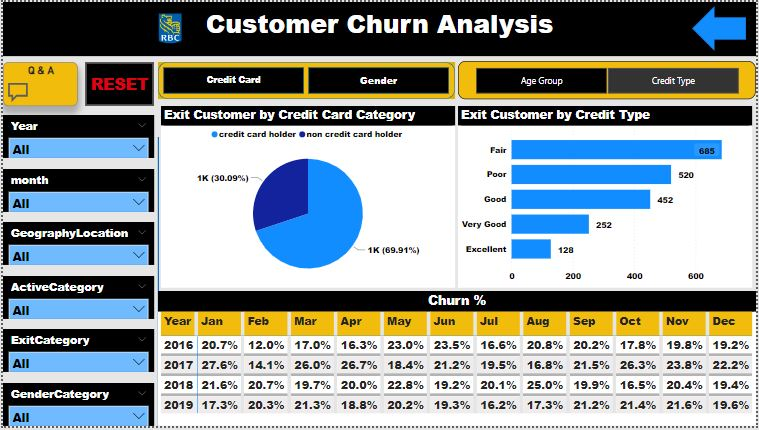

This screenshot's page, from the dashboard's own definition file:
{"tool":"powerbi","page":{"name":"Detailed Analysis","canvas":[1280,720],"ordinal":1},"visuals":[{"type":"textbox","box":[0,0,1280,91.8],"z":0},{"type":"image","box":[226.1,6.8,115.6,76.5],"z":1000},{"type":"shape","box":[256.7,230.2,14.9,490.1],"z":2000},{"type":"slicer","fields":{"Values":["Date_Table.Year"]},"box":[0,192.1,256.7,73.1],"z":3000},{"type":"slicer","fields":{"Values":["Date_Table.month"]},"box":[0,283.2,256.7,73.1],"z":4000},{"type":"slicer","fields":{"Values":["Geography.GeographyLocation"]},"box":[0,374.4,256.7,72.9],"z":5000},{"type":"slicer","fields":{"Values":["ActiveCustomer.ActiveCategory"]},"box":[0,465.3,256.7,72.9],"z":6000},{"type":"slicer","fields":{"Values":["ExitCustomer.ExitCategory"]},"box":[0,556.2,256.7,72.9],"z":7000},{"type":"slicer","fields":{"Values":["Gender.GenderCategory"]},"box":[0,647.1,256.7,72.9],"z":8000},{"type":"clusteredBarChart","fields":{"Category":["Bank_Churn.Credit Type"],"Y":["Calculation.Exit Customer"]},"box":[773.4,176.8,499.8,309.4],"z":10000},{"type":"pieChart","title":"Exit Customer by Credit Card Category","fields":{"Y":["Calculation.Exit Customer"],"Category":["Credit Card.Category"]},"box":[268.6,176.8,499.8,309.4],"z":11000},{"type":"actionButton","title":"Q & A","box":[0,102,127.5,74.8],"z":12000},{"type":"shape","box":[1171.2,6.8,91.8,76.5],"z":13000},{"type":"pivotTable","title":"Churn % ","fields":{"Rows":["Date_Table.Year"],"Values":["Calculation.Churn Rate"],"Columns":["Date_Table.Month_name"]},"box":[263.5,491.3,1016.5,229.5],"z":14000},{"type":"slicer","fields":{"Values":["Exit Customer By 2.Exit Customer By"]},"box":[774.3,100.7,505.7,64.9],"z":15000},{"type":"shape","box":[263.5,102,504.9,62.9],"z":16000},{"type":"shape","box":[272,110.5,240,45.9],"z":17000},{"type":"shape","box":[518.5,110.5,240,45.9],"z":18000},{"type":"actionButton","title":"RESET","box":[139.4,102,117.3,74.8],"z":19000}]}

Visuals, with their boxes in screenshot pixels (x1, y1, x2, y2), scaled from the page's 1280x720 canvas onto the 759x430 screenshot:
textbox: left=0, top=0, right=758, bottom=55
image: left=134, top=4, right=203, bottom=50
shape: left=152, top=137, right=161, bottom=429
slicer - Date_Table.Year: left=0, top=115, right=152, bottom=158
slicer - Date_Table.month: left=0, top=169, right=152, bottom=213
slicer - Geography.GeographyLocation: left=0, top=224, right=152, bottom=267
slicer - ActiveCustomer.ActiveCategory: left=0, top=278, right=152, bottom=321
slicer - ExitCustomer.ExitCategory: left=0, top=332, right=152, bottom=376
slicer - Gender.GenderCategory: left=0, top=386, right=152, bottom=429
clusteredBarChart - Bank_Churn.Credit Type x Calculation.Exit Customer: left=459, top=106, right=755, bottom=290
"Exit Customer by Credit Card Category" pieChart: left=159, top=106, right=456, bottom=290
"Q & A" actionButton: left=0, top=61, right=76, bottom=106
shape: left=694, top=4, right=749, bottom=50
"Churn % " pivotTable: left=156, top=293, right=758, bottom=429
slicer - Exit Customer By 2.Exit Customer By: left=459, top=60, right=758, bottom=99
shape: left=156, top=61, right=456, bottom=98
shape: left=161, top=66, right=304, bottom=93
shape: left=307, top=66, right=450, bottom=93
"RESET" actionButton: left=83, top=61, right=152, bottom=106
